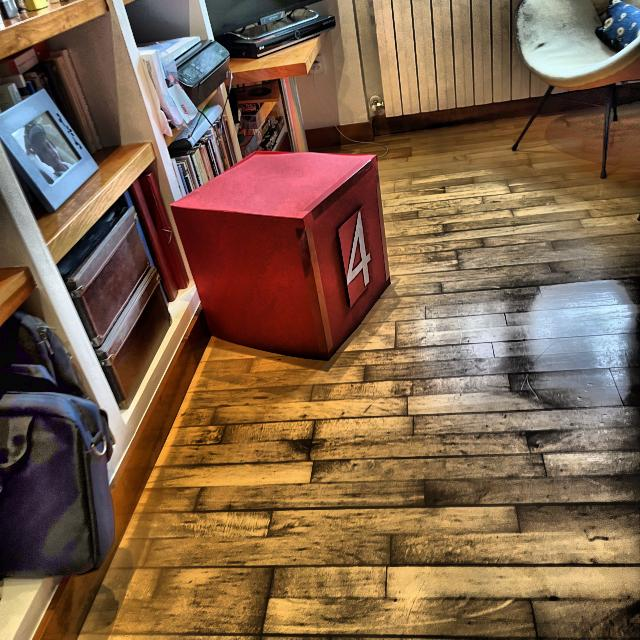four: (344, 208, 372, 292)
red box: (175, 153, 393, 362)
